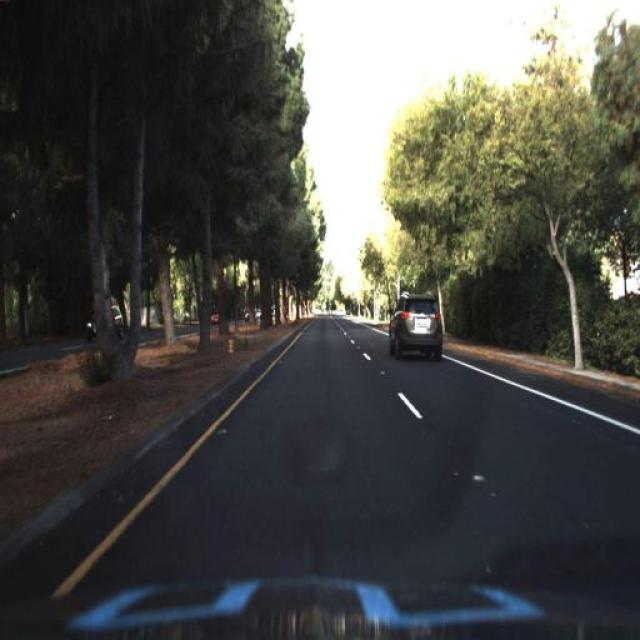car: (388, 292, 443, 362), (81, 303, 122, 342)
